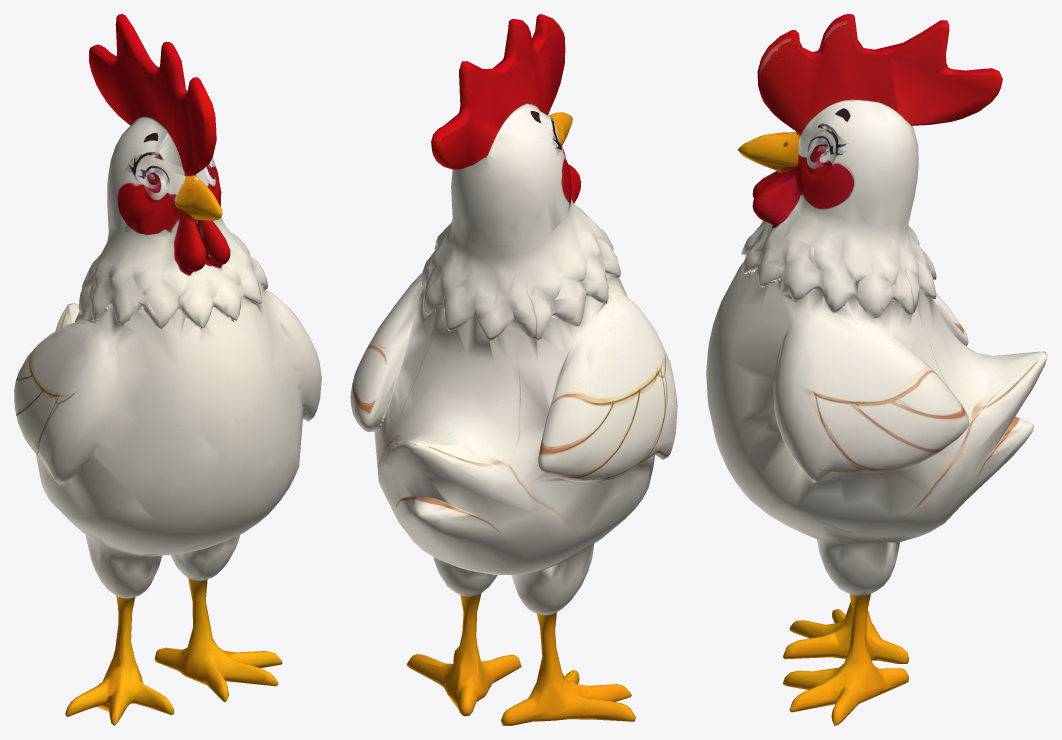
The model's file is chicken.glb.
The picture shows the model from 3 angles, left to right: view 1: azimuth 30°, elevation 25°; view 2: azimuth 150°, elevation 25°; view 3: azimuth 270°, elevation 25°; orthographic projection. The views are drawn at different scales.
Bounding box in the file's own units: 0.8373 × 1.91 × 0.8975.
1 material, 1 textured.
